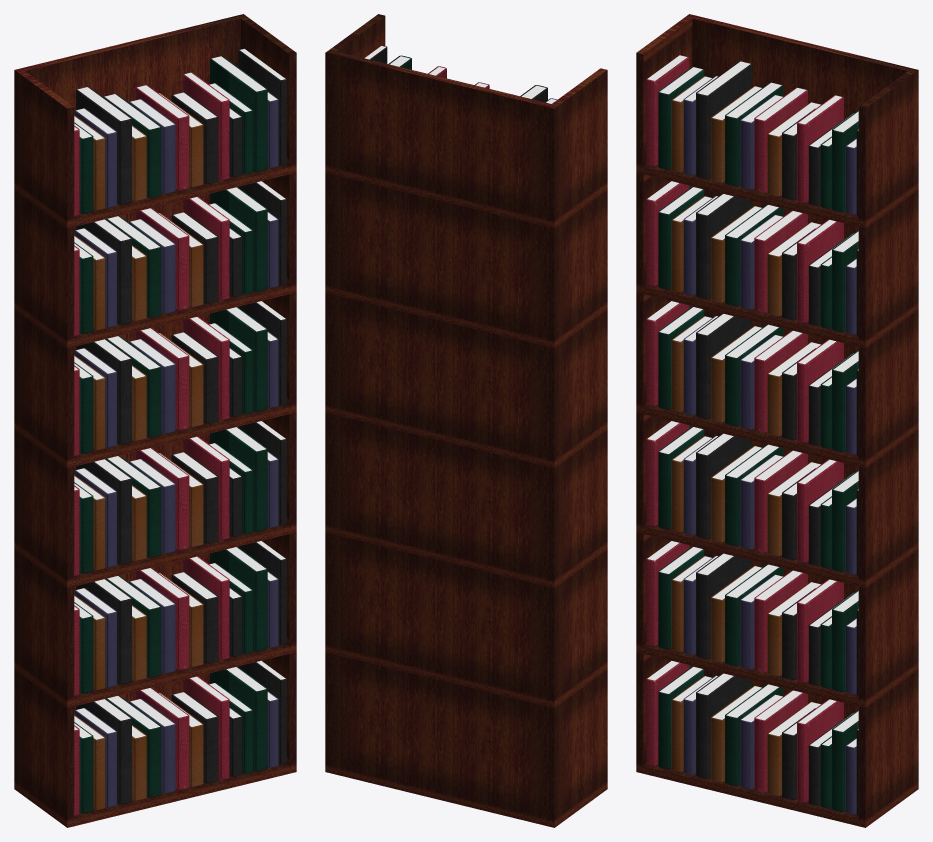
Rendered from BookCaseWBooks.fbx.
3 views of the same model, side by side, from view 1: azimuth 30°, elevation 25°; view 2: azimuth 150°, elevation 25°; view 3: azimuth 330°, elevation 25° (orthographic).
Parts seen in each view (by area): view 1: Books, BookCaseWBooks_0.4x1x3; view 2: BookCaseWBooks_0.4x1x3, Books; view 3: Books, BookCaseWBooks_0.4x1x3.
Part boxes in pixels (<box>): Books: <box>74,48,286,815</box>; BookCaseWBooks_0.4x1x3: <box>14,14,296,827</box>; BookCaseWBooks_0.4x1x3: <box>325,14,607,827</box>; Books: <box>365,45,557,103</box>; Books: <box>646,55,858,815</box>; BookCaseWBooks_0.4x1x3: <box>636,14,918,827</box>.
Size of the model in its own units: 100 by 300 by 40.
